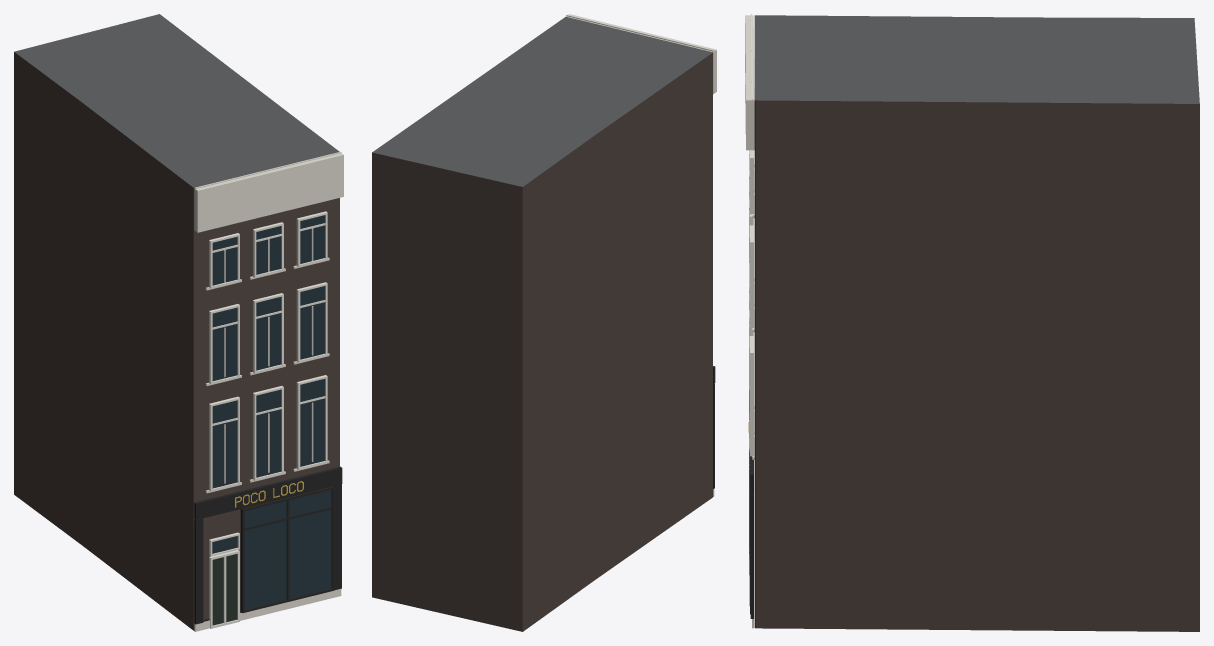
3 renders of one model, left to right at view 1: azimuth 30°, elevation 25°; view 2: azimuth 150°, elevation 25°; view 3: azimuth 270°, elevation 25°, orthographic. The views are drawn at different scales.
Parts seen in each view (by area): view 1: spec-0363100012182856; view 2: spec-0363100012182856; view 3: spec-0363100012182856.
Boxes of the visible parts, x1,y1,x2,y2 form: spec-0363100012182856: (14, 14, 343, 631); spec-0363100012182856: (372, 14, 716, 631); spec-0363100012182856: (745, 14, 1199, 631).
Bounding box in the file's own units: 6.09 × 16.93 × 13.19.
